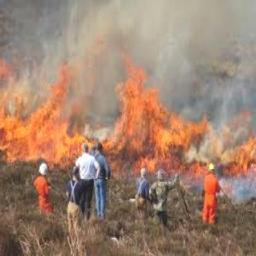Heavy smoke: (0, 0, 255, 119)
Large fire: (0, 18, 255, 205)
